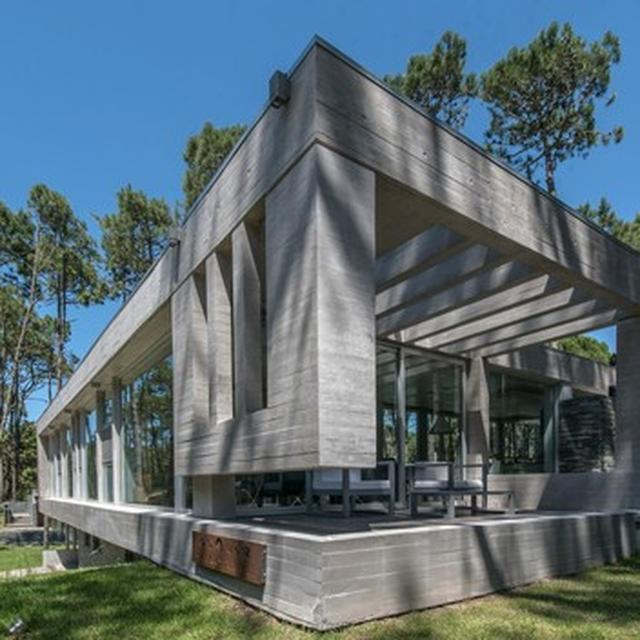building: (35, 32, 640, 630)
